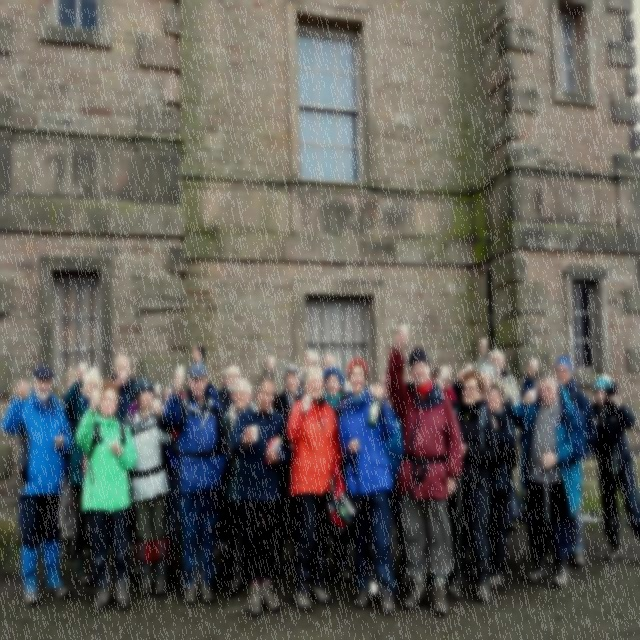pessoa: (383, 321, 462, 618), (518, 352, 598, 573), (512, 368, 588, 590), (162, 359, 230, 603), (228, 373, 294, 620), (337, 356, 398, 616), (74, 375, 138, 615), (284, 363, 345, 614), (192, 342, 254, 577), (446, 368, 499, 606), (128, 379, 172, 597), (591, 374, 640, 564), (63, 360, 104, 586), (484, 384, 518, 588), (222, 376, 254, 592), (57, 364, 81, 564), (473, 336, 522, 408), (105, 352, 140, 425), (272, 361, 302, 422), (430, 360, 468, 400), (322, 366, 347, 410), (477, 362, 495, 407), (152, 379, 178, 402), (381, 372, 393, 409), (321, 351, 337, 376), (297, 367, 307, 400)
